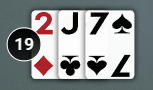2: (32, 10, 57, 37)
7: (86, 9, 110, 38)
j: (58, 10, 85, 37)
